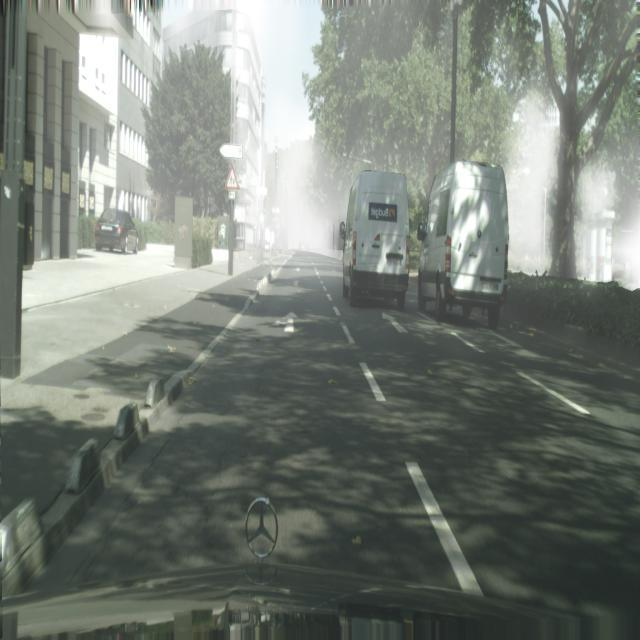motorcycle: (416, 159, 509, 330), (337, 171, 410, 311)
truck: (95, 208, 138, 254)
